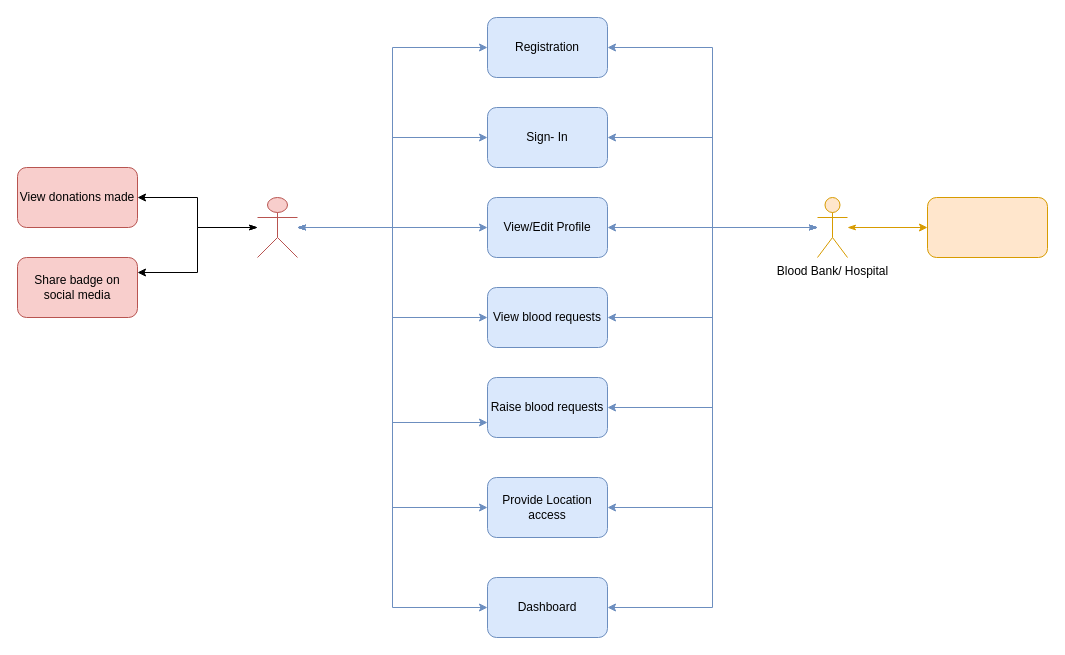
Some shapes in this 1065 by 655 pixel diagram are drawn without their labels. The centre of each missing label's shape, as x and y in pixels:
Donor: the point at 277,227
View Donors: the point at 987,227
